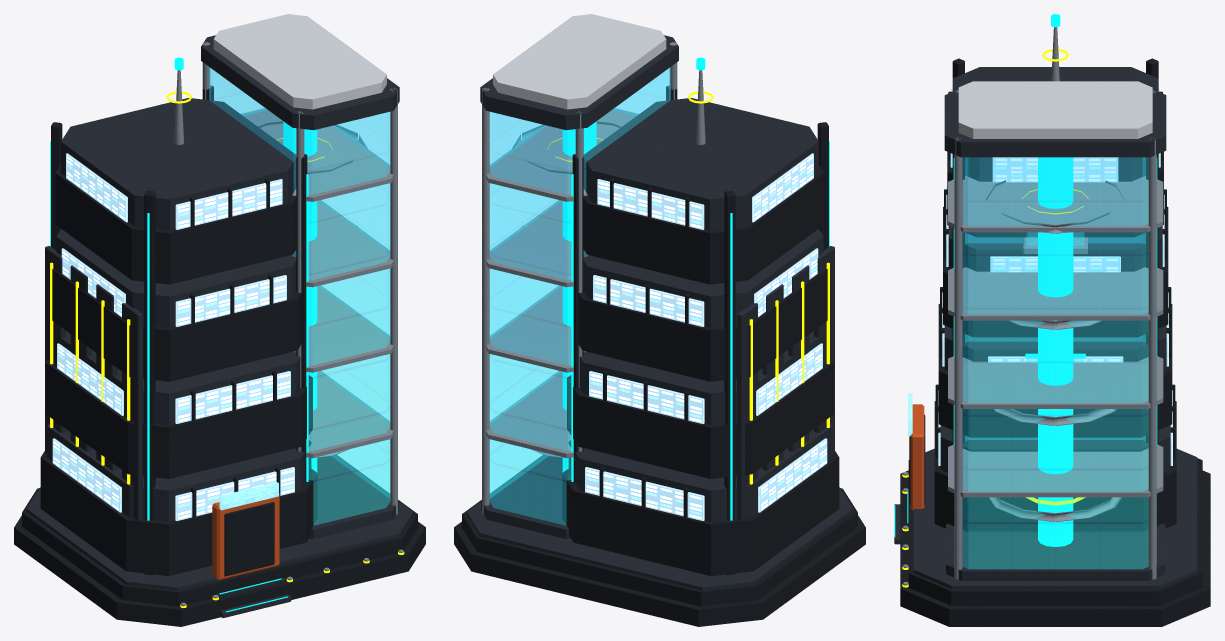
The model's file is bldg_12_winner_01.glb.
3 views of the same model, side by side, from view 1: azimuth 30°, elevation 25°; view 2: azimuth 150°, elevation 25°; view 3: azimuth 270°, elevation 25° (orthographic). The views are drawn at different scales.
Parts seen in each view (by area): view 1: Bldg12_C02_gunmetal, Bldg12_C02_carbon_slate, Bldg12_C02_glass_cyan, Bldg12_C02_steel_machined, Bldg12_C02_window_lit, Bldg12_C02_aero_white, Bldg12_C02_led_cyan, Bldg12_C02_led_amber, Bldg12_C02_accent_orange, Bldg12_C02_marquee; view 2: Bldg12_C02_gunmetal, Bldg12_C02_carbon_slate, Bldg12_C02_glass_cyan, Bldg12_C02_steel_machined, Bldg12_C02_window_lit, Bldg12_C02_aero_white, Bldg12_C02_led_cyan, Bldg12_C02_led_amber; view 3: Bldg12_C02_glass_cyan, Bldg12_C02_steel_machined, Bldg12_C02_carbon_slate, Bldg12_C02_gunmetal, Bldg12_C02_aero_white, Bldg12_C02_led_cyan, Bldg12_C02_window_lit, Bldg12_C02_accent_orange, Bldg12_C02_led_amber.
Part boxes in pixels (x1,y1,x2,y2): Bldg12_C02_gunmetal: (14,86,425,626); Bldg12_C02_carbon_slate: (26,35,413,617); Bldg12_C02_glass_cyan: (209,67,390,525); Bldg12_C02_steel_machined: (174,42,403,606); Bldg12_C02_window_lit: (52,153,294,520); Bldg12_C02_aero_white: (213,14,386,109); Bldg12_C02_led_cyan: (50,57,317,612); Bldg12_C02_led_amber: (50,91,404,607); Bldg12_C02_accent_orange: (212,493,279,580); Bldg12_C02_marquee: (219,482,278,510); Bldg12_C02_gunmetal: (454,86,865,626); Bldg12_C02_carbon_slate: (466,35,853,590); Bldg12_C02_glass_cyan: (489,67,670,525); Bldg12_C02_steel_machined: (482,42,705,514); Bldg12_C02_window_lit: (585,153,827,520); Bldg12_C02_aero_white: (493,14,666,109); Bldg12_C02_led_cyan: (562,57,829,520); Bldg12_C02_led_amber: (547,91,829,484); Bldg12_C02_glass_cyan: (963,155,1156,568); Bldg12_C02_steel_machined: (903,27,1163,585); Bldg12_C02_carbon_slate: (894,67,1197,589); Bldg12_C02_gunmetal: (900,58,1210,626); Bldg12_C02_aero_white: (958,81,1152,138); Bldg12_C02_led_cyan: (894,14,1157,546); Bldg12_C02_window_lit: (938,88,1172,465); Bldg12_C02_accent_orange: (910,404,924,510); Bldg12_C02_led_amber: (902,49,1088,587).
Size of the model in its own units: 12.5 by 19.12 by 10.71.
Materials: 10 (10 with a texture image).
